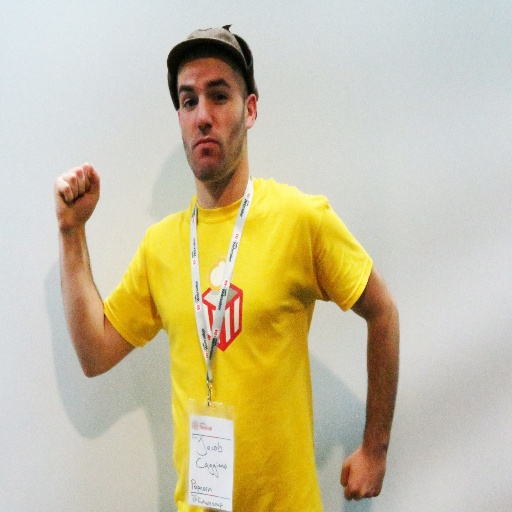hand: (41, 153, 103, 235), (340, 442, 388, 502)
